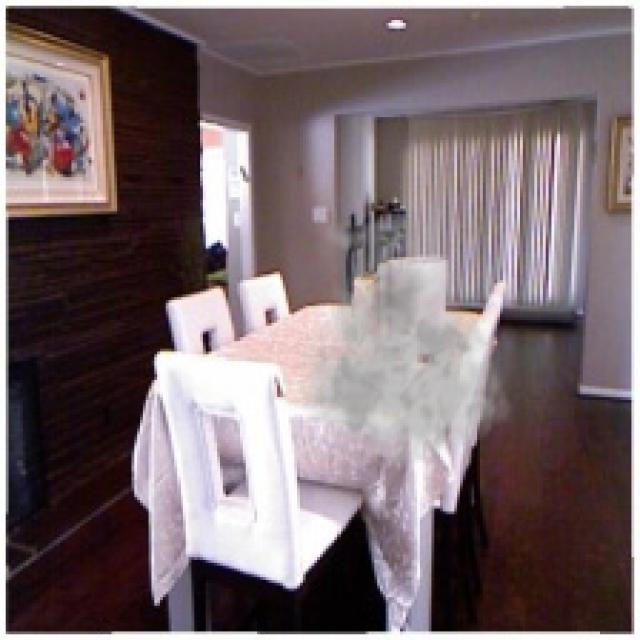smoke: (283, 197, 514, 469)
